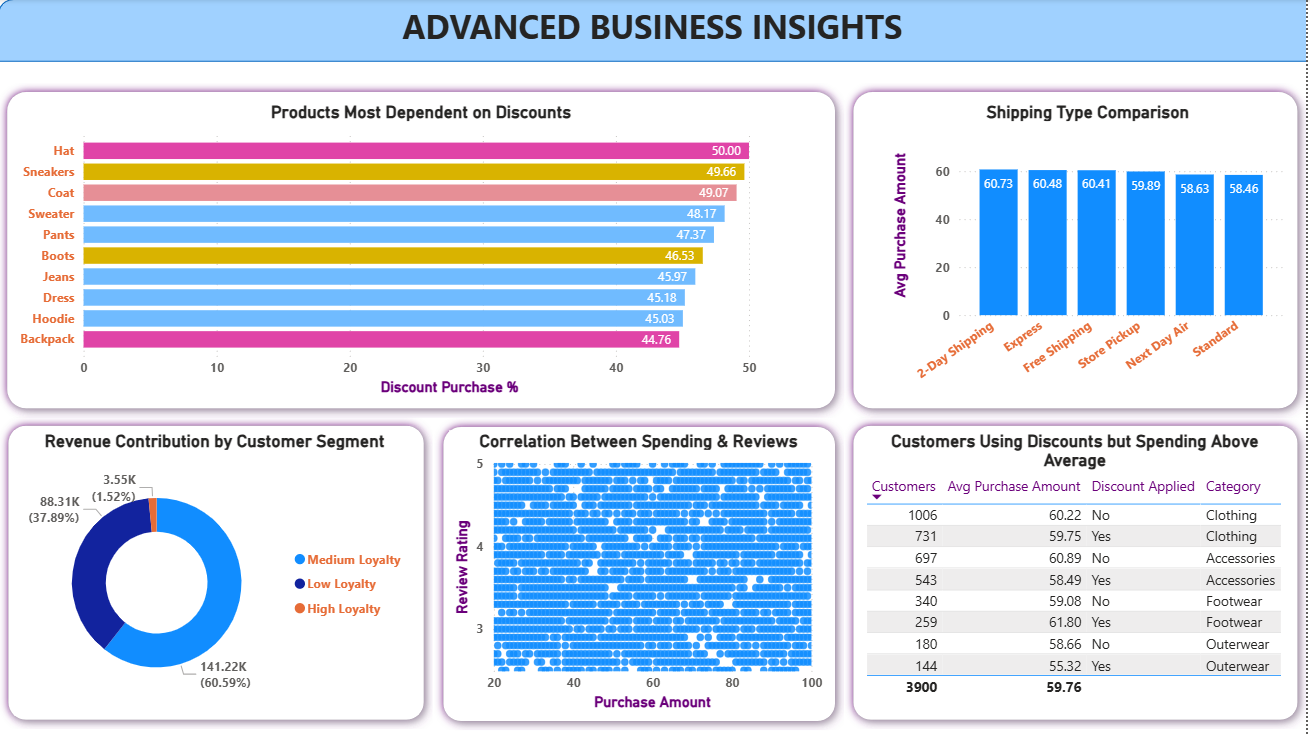

This screenshot's page, from the dashboard's own definition file:
{"tool":"powerbi","page":{"name":"Page 4","canvas":[1280,720],"ordinal":3},"visuals":[{"type":"shape","box":[0,0,1500.3,61.3],"z":0},{"type":"textbox","box":[0,0,1280.3,61.1],"z":1000},{"type":"shape","box":[0,81.9,827.9,327.7],"z":2000},{"type":"shape","box":[426.8,409.6,401.1,305.7],"z":3000},{"type":"shape","box":[1.2,408.4,424.3,305.7],"z":4000},{"type":"shape","box":[827.9,81.9,452.4,327.7],"z":5000},{"type":"shape","box":[827.9,408.4,452.4,305.7],"z":6000},{"type":"clusteredBarChart","title":"Products Most Dependent on Discounts","fields":{"Category":["public customer.item_purchased"],"Y":["public customer.Discount Purchase %"]},"box":[15.9,100.3,796.1,292.3],"z":7000},{"type":"columnChart","title":"Shipping Type Comparison","fields":{"Category":["public customer.shipping_type"],"Y":["public customer.Avg Purchase Amount"]},"box":[869.5,99.8,393.4,292.2],"z":12000},{"type":"donutChart","title":"Revenue Contribution by Customer Segment","fields":{"Category":["public customer.Loyalty Segment"],"Y":["public customer.Total Revenue"]},"box":[15.7,421.9,392,279.4],"z":13000},{"type":"scatterChart","title":"Correlation Between Spending & Reviews","fields":{"X":["public customer.purchase_amount"],"Y":["public customer.review_rating"]},"box":[441.4,421.9,370.5,278.8],"z":14000},{"type":"tableEx","title":"Customers Using Discounts but Spending Above Average","fields":{"Values":["CountNonNull(public customer.customer_id)","Avg(public customer.purchase_amount)","public customer.discount_applied","public customer.category"]},"box":[843.8,421.9,419.4,278.8],"z":15000}]}

Visuals, with their boxes in screenshot pixels (x1, y1, x2, y2), scaled from the page's 1280x720 canvas onto the 1310x735 screenshot:
shape: (x1=0, y1=0, x2=1309, y2=63)
textbox: (x1=0, y1=0, x2=1309, y2=62)
shape: (x1=0, y1=84, x2=847, y2=418)
shape: (x1=437, y1=418, x2=847, y2=730)
shape: (x1=1, y1=417, x2=435, y2=729)
shape: (x1=847, y1=84, x2=1309, y2=418)
shape: (x1=847, y1=417, x2=1309, y2=729)
"Products Most Dependent on Discounts" clusteredBarChart: (x1=16, y1=102, x2=831, y2=401)
"Shipping Type Comparison" columnChart: (x1=890, y1=102, x2=1292, y2=400)
"Revenue Contribution by Customer Segment" donutChart: (x1=16, y1=431, x2=417, y2=716)
"Correlation Between Spending & Reviews" scatterChart: (x1=452, y1=431, x2=831, y2=715)
"Customers Using Discounts but Spending Above Average" tableEx: (x1=864, y1=431, x2=1293, y2=715)
